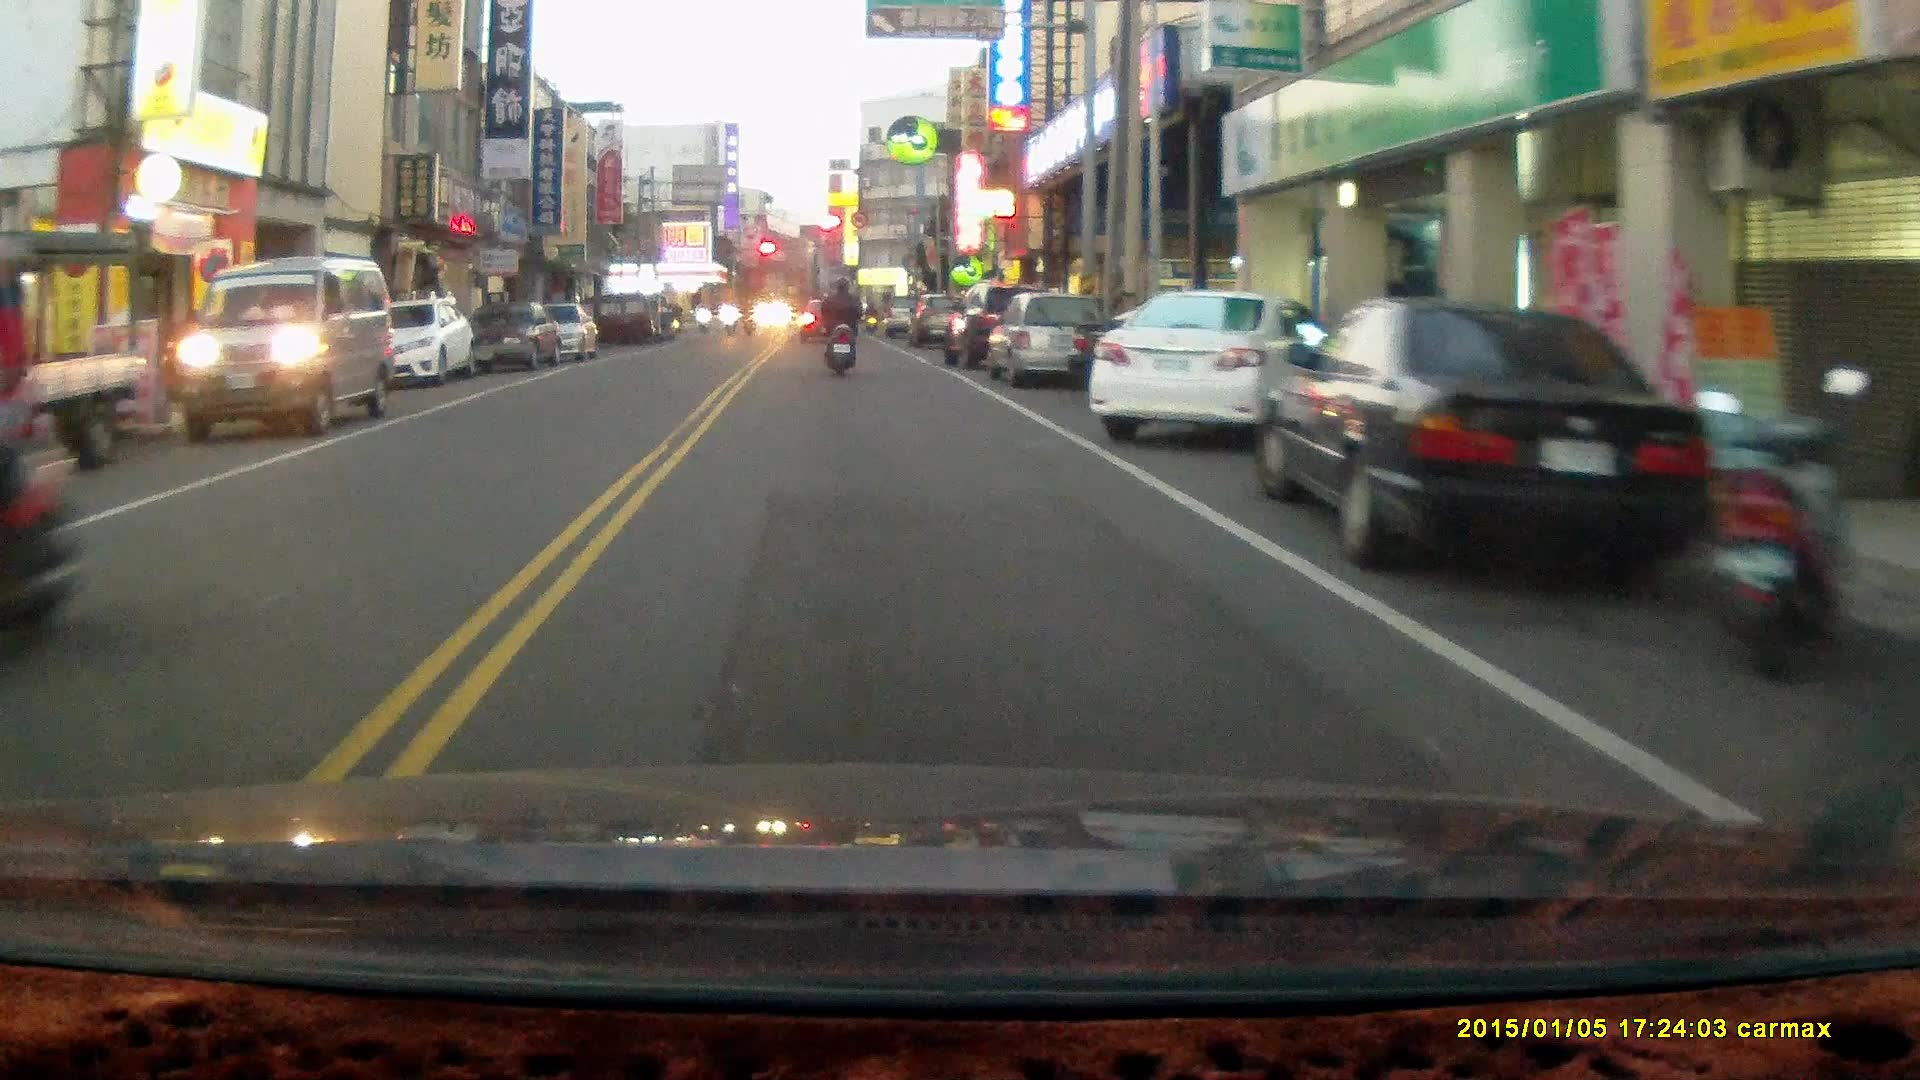rider: (819, 275, 865, 378)
vehicle: (1255, 299, 1754, 573), (173, 251, 388, 431), (0, 229, 152, 476), (1090, 289, 1323, 447), (985, 291, 1113, 391), (364, 298, 478, 390)
